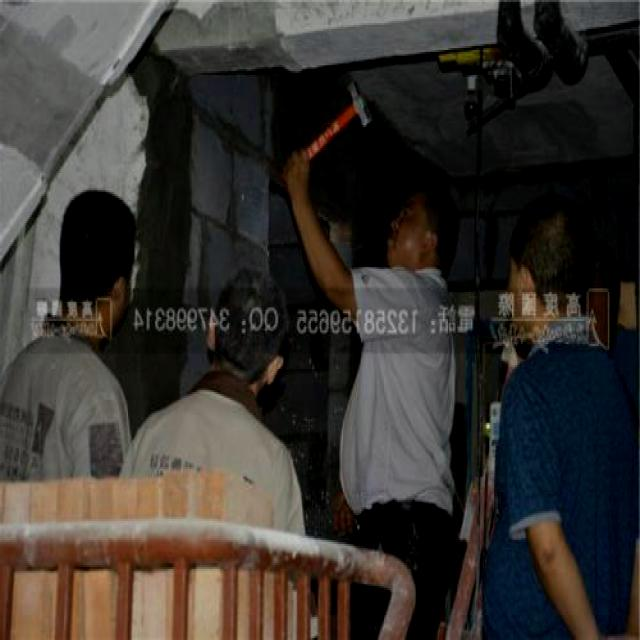face_nomask: (379, 196, 423, 258)
hand_noglove: (277, 141, 317, 201)
head_nohelmet: (62, 181, 138, 257), (520, 189, 598, 263), (219, 271, 292, 340), (405, 178, 464, 230)
person: (307, 169, 477, 640), (474, 187, 635, 640), (118, 262, 305, 601), (0, 182, 146, 531)
